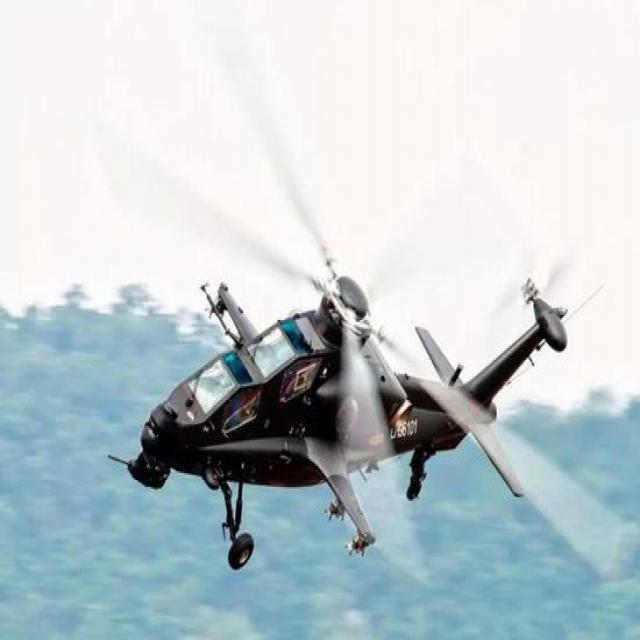MIL_HELO: (28, 31, 640, 640)
